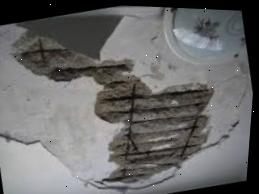exposed_rebar: (125, 82, 147, 159), (106, 101, 205, 115), (101, 88, 207, 101), (22, 38, 60, 64), (116, 144, 196, 156), (128, 115, 203, 124), (53, 63, 125, 72), (181, 117, 197, 156), (106, 80, 126, 85)
spalling: (11, 29, 214, 183)
